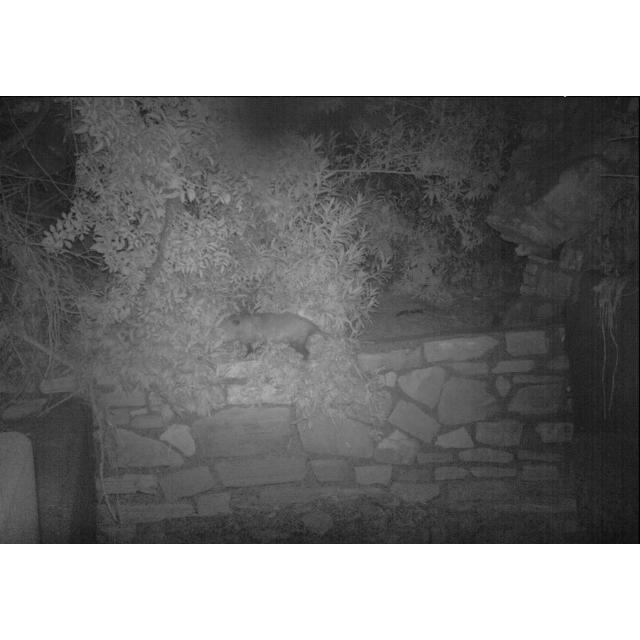animals: (209, 306, 327, 359)
